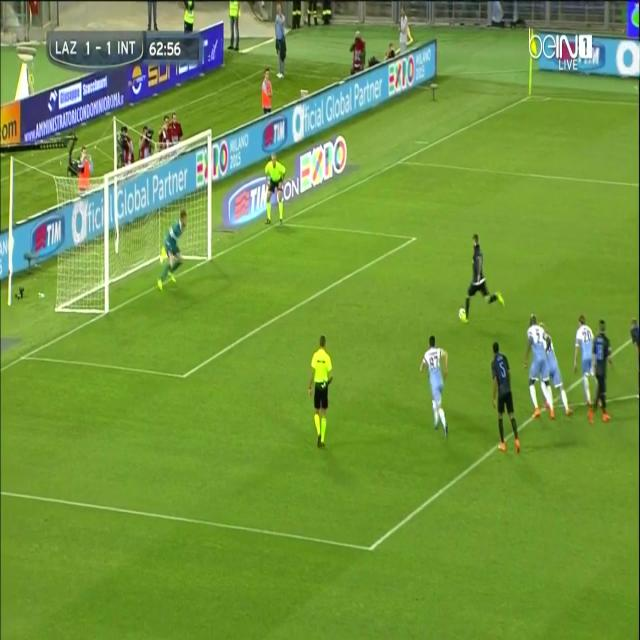Ball: (458, 306, 466, 323)
Goalkeeper: (158, 208, 188, 292)
Player: (463, 229, 508, 329), (416, 330, 453, 442), (488, 342, 522, 455), (522, 314, 555, 421), (586, 317, 614, 428), (572, 312, 596, 411)
Referee: (304, 331, 334, 452), (261, 148, 289, 228)
